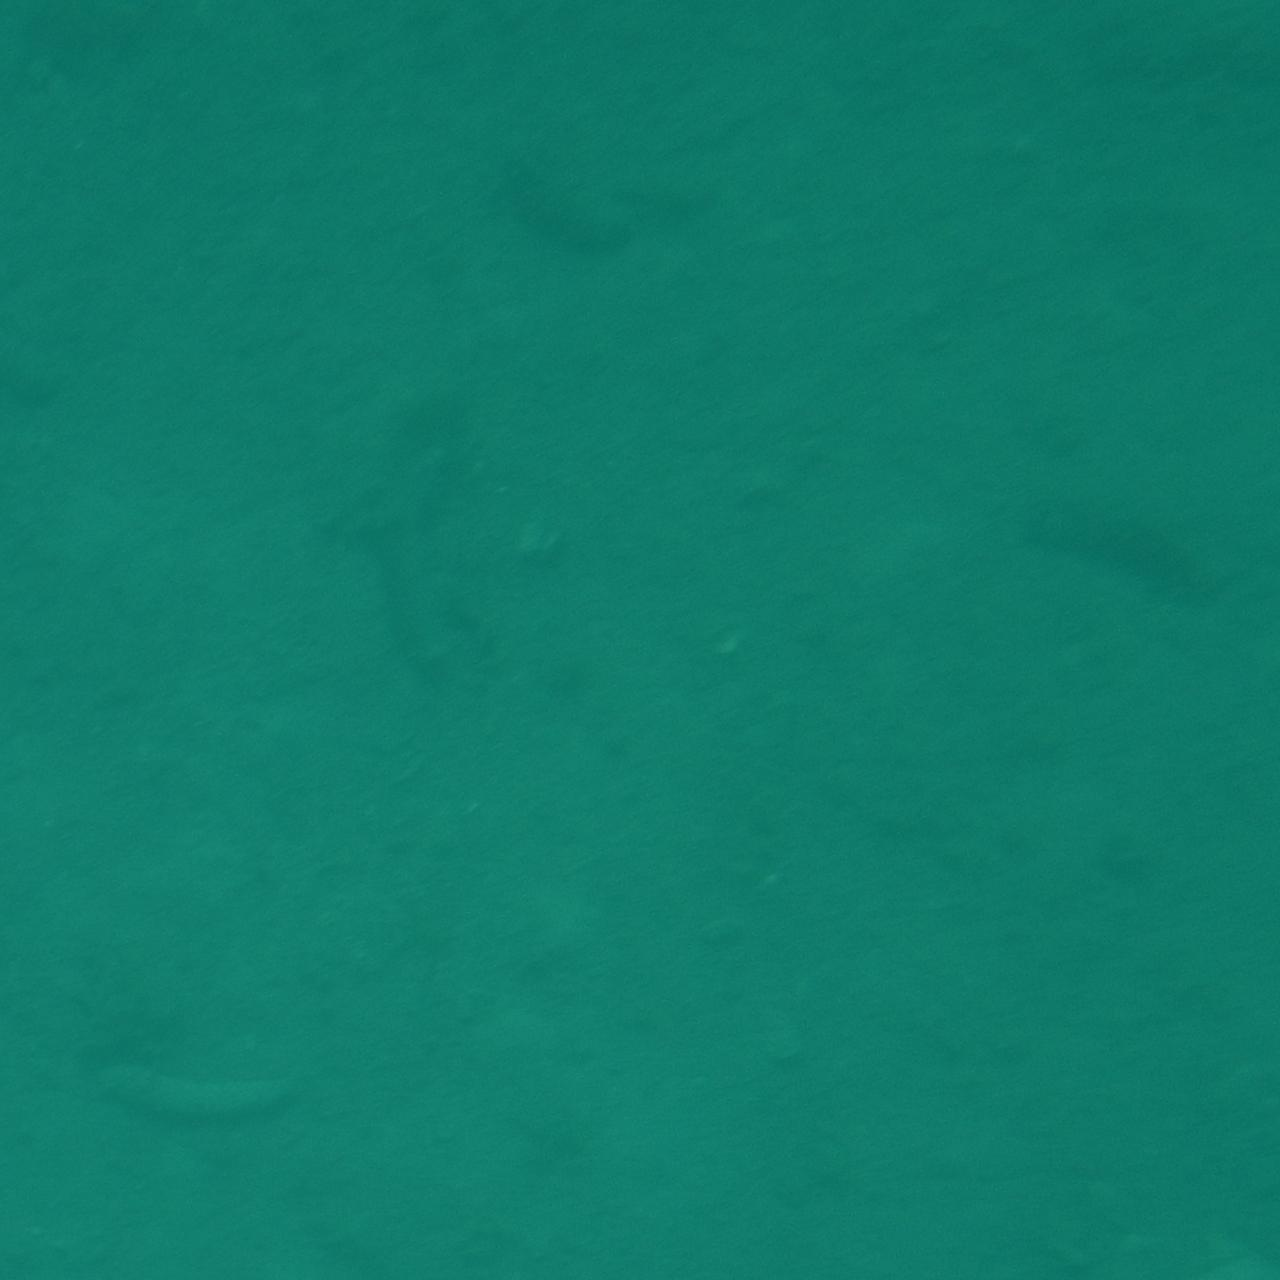Holothuria tubulosa: (407, 111, 658, 287), (1002, 463, 1233, 639), (7, 1027, 319, 1137)
